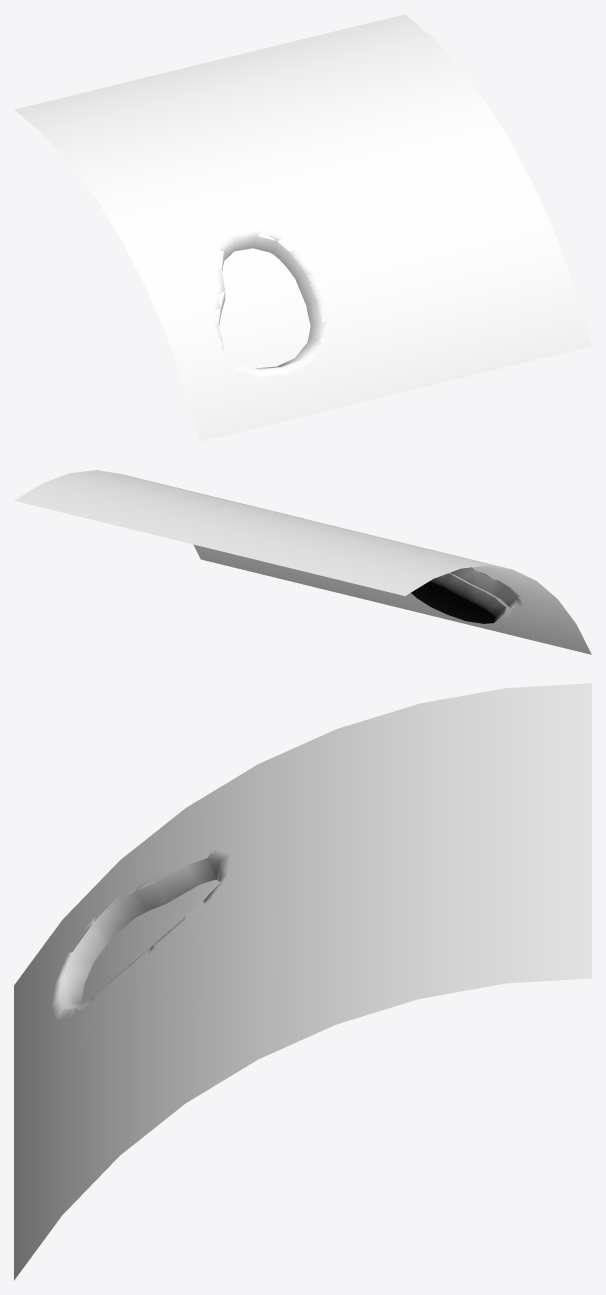
Rendered from grd_F_R_1.dae.
3 views of the same model, one above another, from view 1: azimuth 30°, elevation 25°; view 2: azimuth 150°, elevation 25°; view 3: azimuth 270°, elevation 25° (orthographic). The views are drawn at different scales.
Visible parts, largest first — view 1: grd_F_R_1; view 2: grd_F_R_1; view 3: grd_F_R_1.
Boxes of the visible parts, x1=… form: grd_F_R_1: x1=14, y1=14, x2=591, y2=441; grd_F_R_1: x1=14, y1=470, x2=591, y2=654; grd_F_R_1: x1=14, y1=683, x2=591, y2=1280.
Bounding box in the file's own units: 512 × 244 × 423.
Materials: 5 (1 with a texture image).
